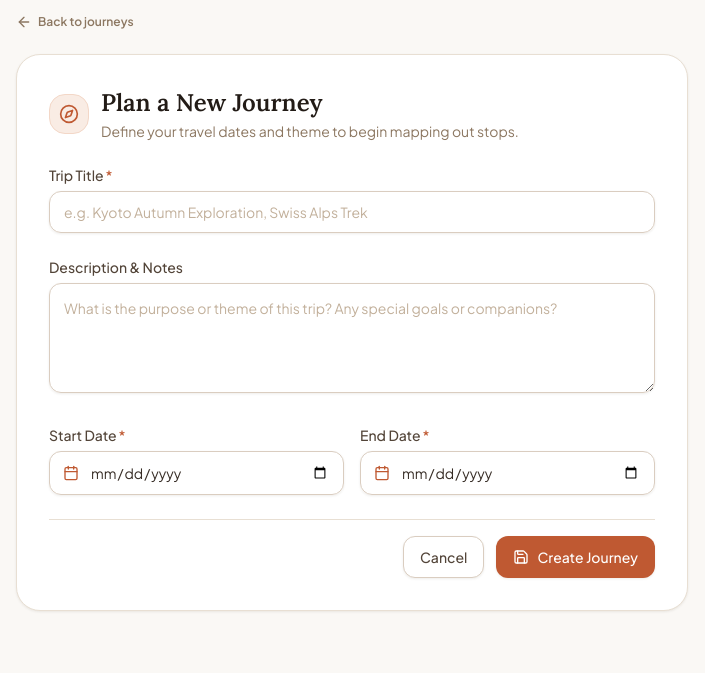
Test: Trips Feature › validates required fields on trip creation
Click the button "Create Journey": coordinates (576, 557) [496, 536, 655, 578]
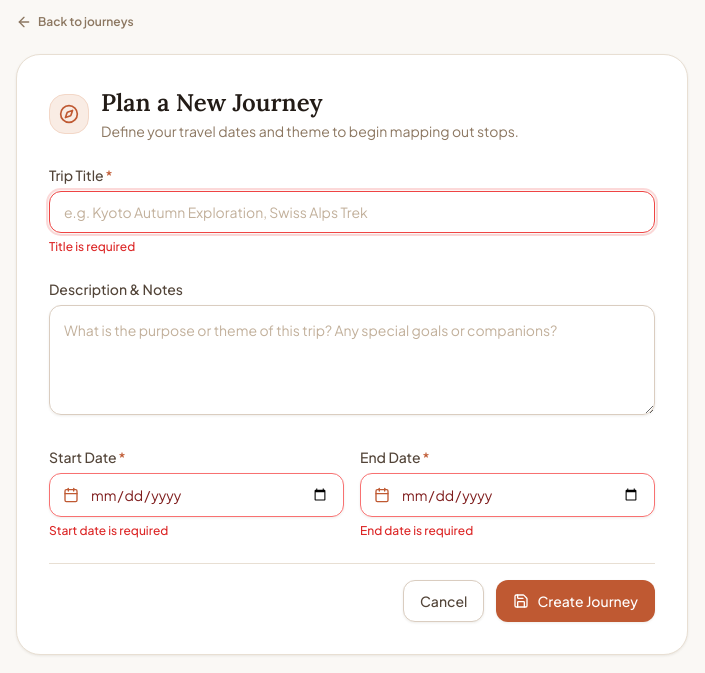
Now the text "Title is required" is shown, box [49, 239, 135, 254]
Now the text "Start date is required" is shown, box [49, 523, 168, 538]
Now the text "End date is required" is shown, box [360, 523, 473, 538]
